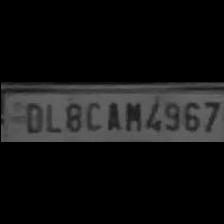4: (143, 97, 161, 132)
6: (180, 99, 200, 133)
7: (200, 97, 220, 132)
8: (60, 99, 82, 133)
9: (160, 97, 180, 131)
A: (101, 99, 121, 133)
C: (82, 97, 102, 132)
D: (20, 96, 42, 132)
L: (42, 99, 60, 134)
M: (120, 97, 142, 132)
